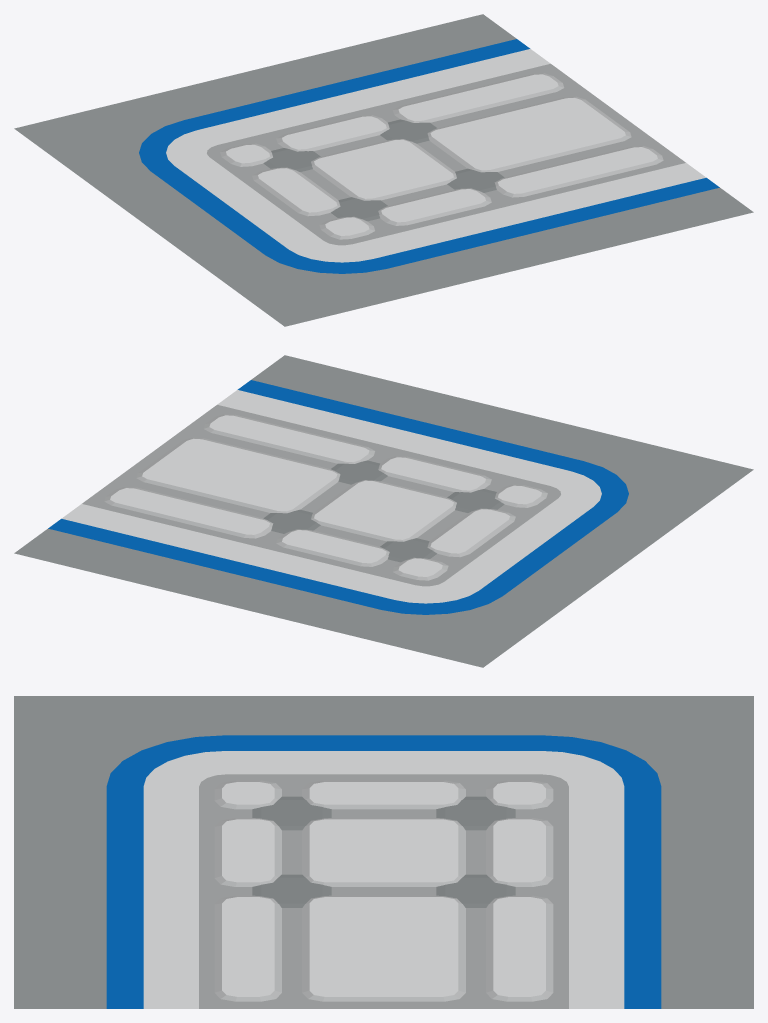
File: Floor_type_A_012.fbx
3 renders of one model, top to bottom at view 1: azimuth 30°, elevation 25°; view 2: azimuth 150°, elevation 25°; view 3: azimuth 270°, elevation 25°, orthographic. The views are drawn at different scales.
Visible parts, largest first — view 1: Floor_type_A_012; view 2: Floor_type_A_012; view 3: Floor_type_A_012.
Part boxes in pixels (<box>): Floor_type_A_012: <box>14,14,753,326</box>; Floor_type_A_012: <box>14,355,753,667</box>; Floor_type_A_012: <box>14,696,753,1008</box>.
Bounding box in the file's own units: 400 × 400 × 1.34.
